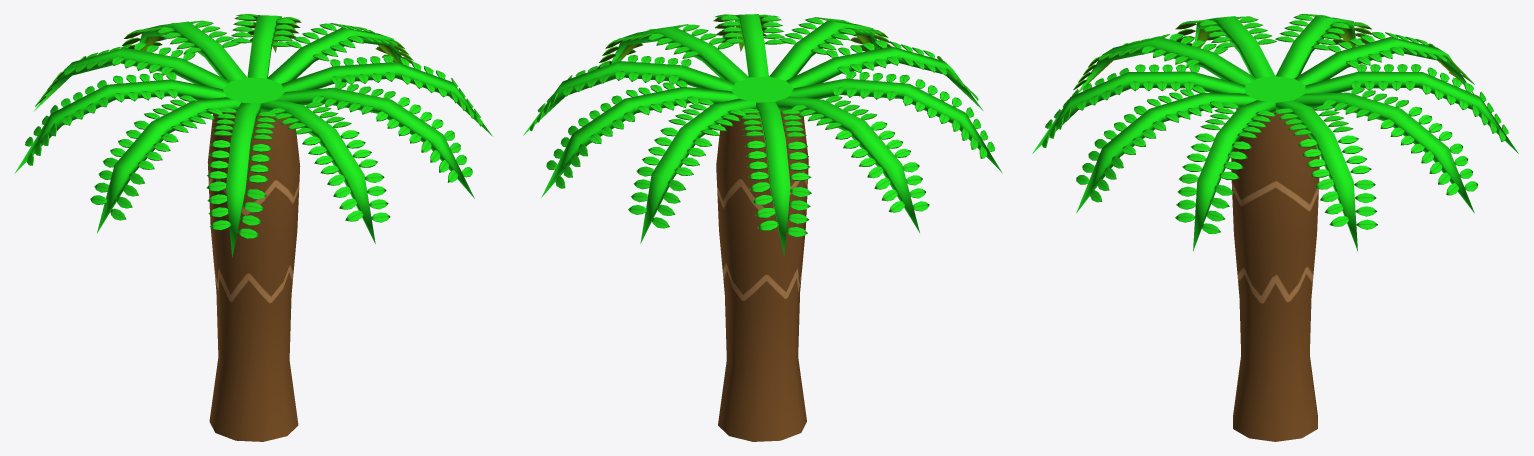
File: NATUMEYASHI (1).FBX
The picture shows the model from 3 angles, left to right: view 1: azimuth 30°, elevation 25°; view 2: azimuth 150°, elevation 25°; view 3: azimuth 270°, elevation 25°; orthographic projection.
Visible parts, largest first — view 1: Beda, Amiki, Ckonoha; view 2: Beda, Amiki, Ckonoha; view 3: Beda, Amiki, Ckonoha.
Part boxes in pixels (box(x1,y1,x2,y2)): Beda: box(14, 15, 492, 257); Amiki: box(207, 112, 300, 441); Ckonoha: box(25, 14, 482, 238); Beda: box(523, 14, 1002, 256); Amiki: box(716, 111, 808, 441); Ckonoha: box(530, 14, 994, 237); Beda: box(1032, 16, 1518, 251); Amiki: box(1231, 108, 1319, 441); Ckonoha: box(1042, 14, 1508, 233).
Bounding box in the file's own units: 126 × 105 × 134.
